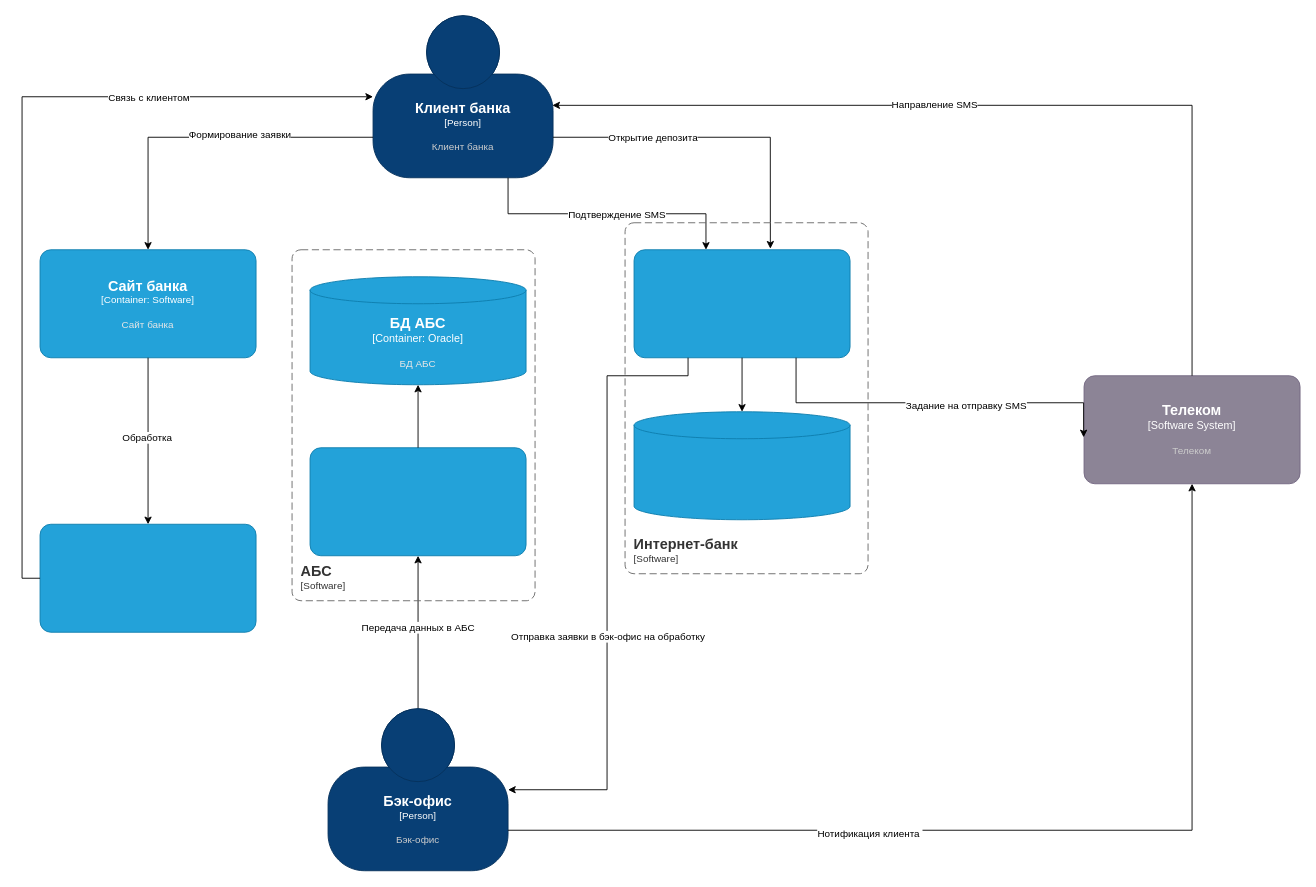
Some shapes in this 1316 by 887 pixel diagram are drawn without their labels. Here are the shapes that lost their labels. From the top down, the centre of each, then its label:
At pixel 741 303: "Интернет-банк [Container: ASP.NET MVC 4.5] Интернет-банк".
At pixel 741 465: "БД Интернет-банка [Container: MS SQL] БД Интернет-банка".
At pixel 417 501: "АБС [Container: Software] АБС".
At pixel 147 577: "Кол-центр [Container: Software] Кол-центр".
